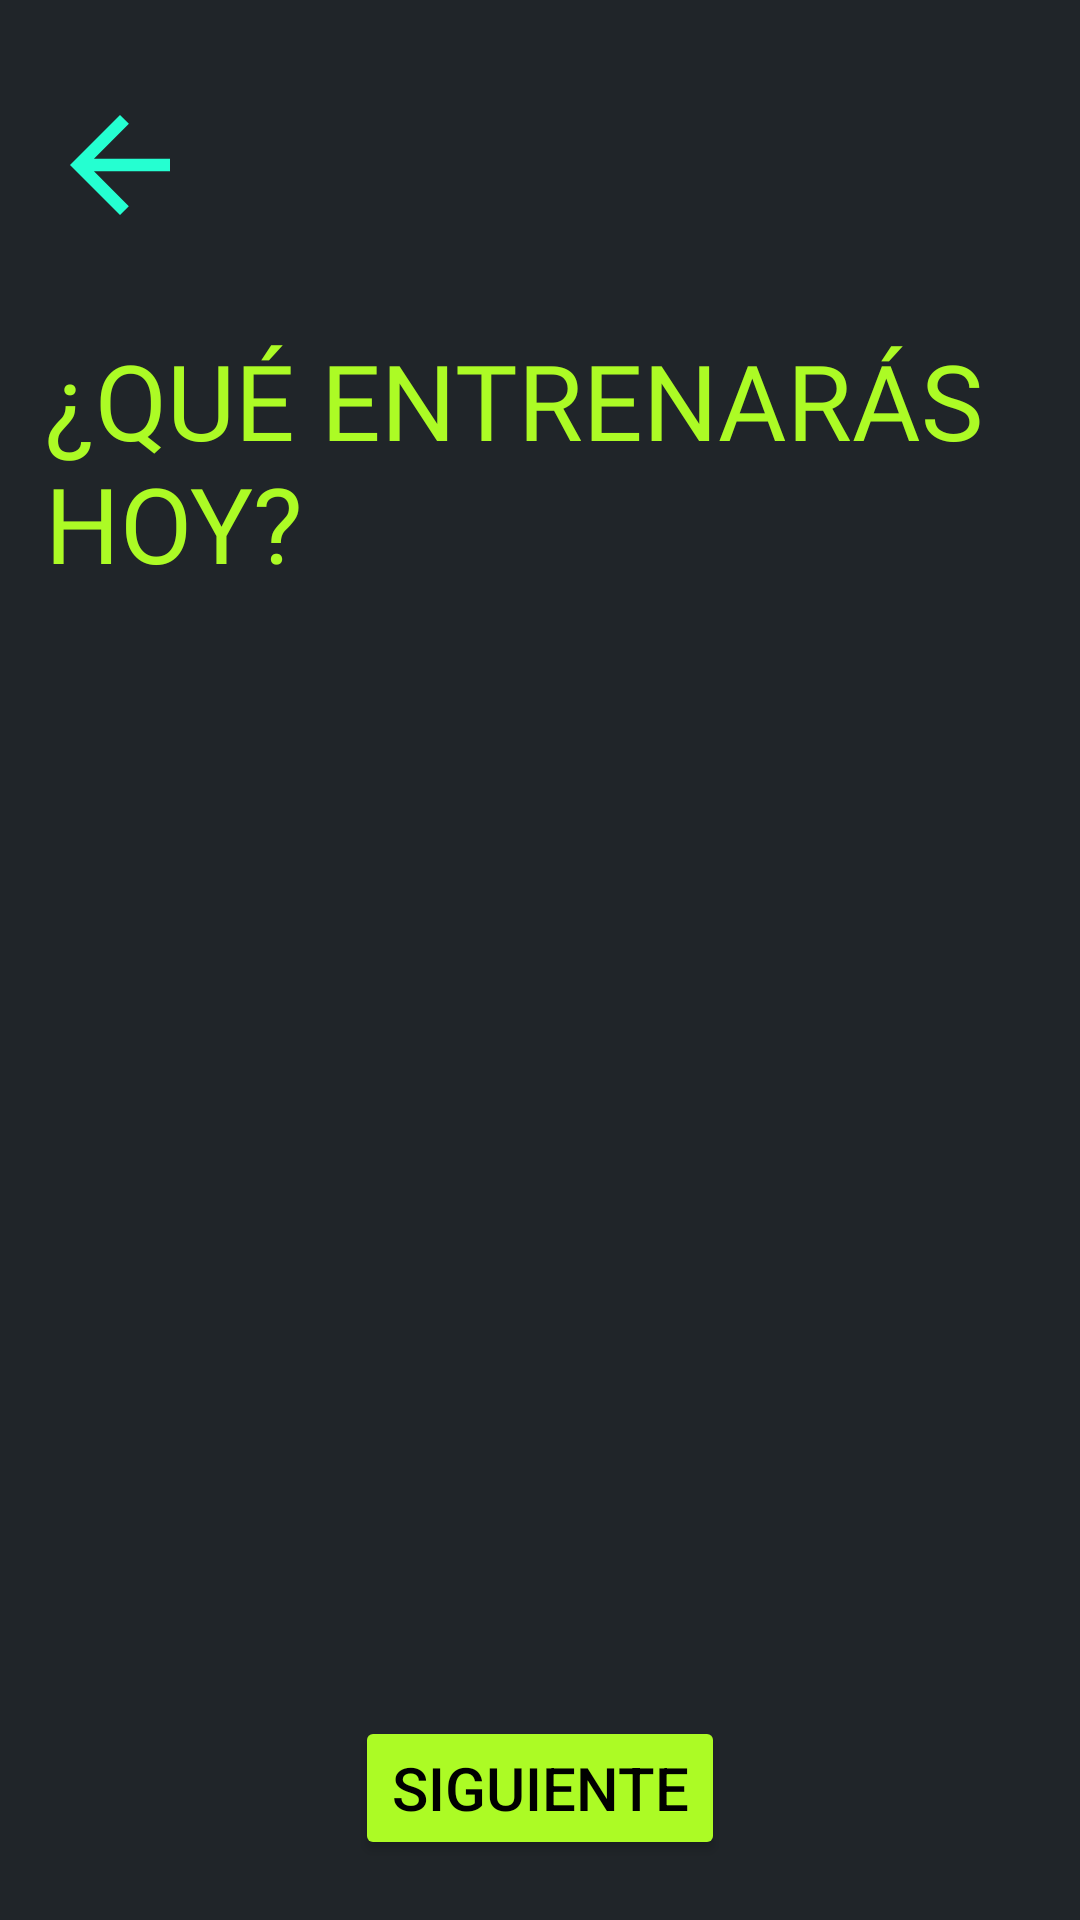

Screen size 1080 x 1920. Icon name, then its center in pixels as point (x, y):
flecha atras: point (120, 165)
